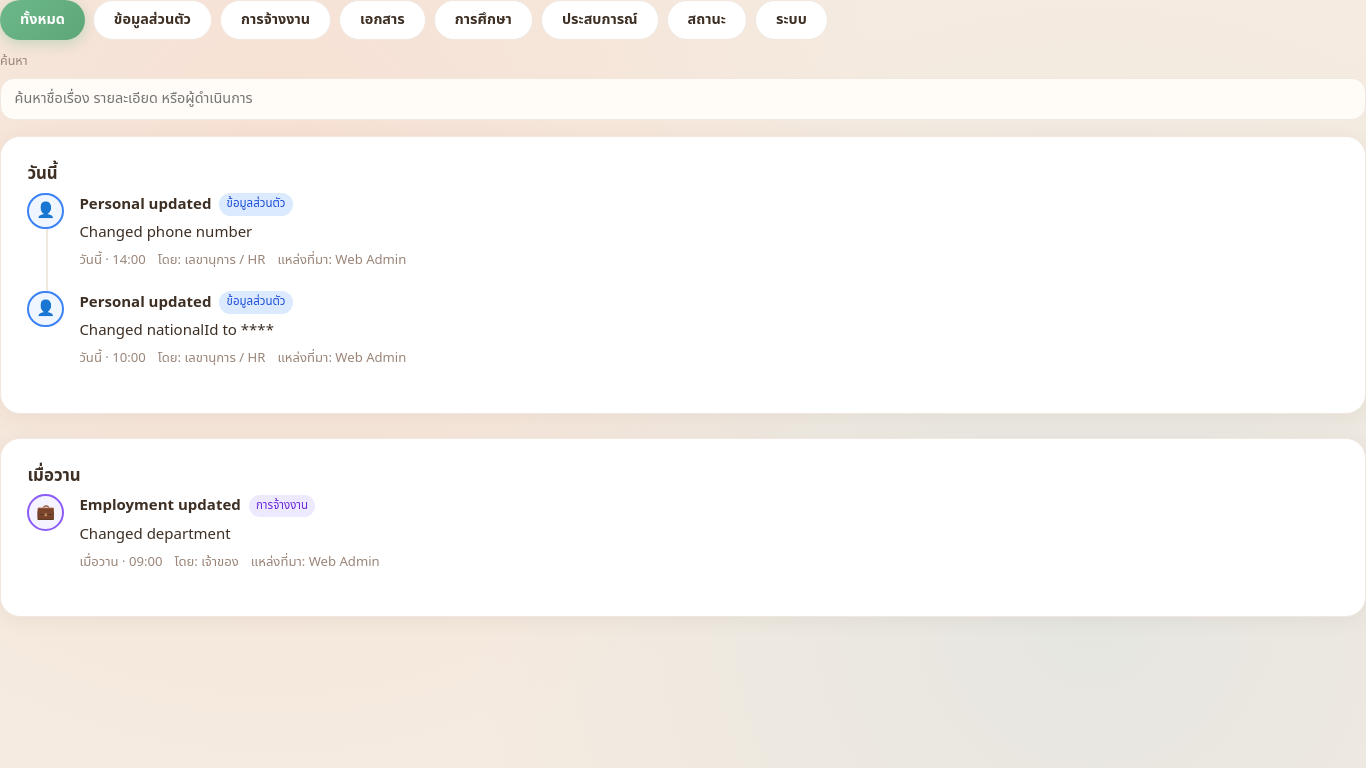
Scenario: EmployeeTimelineTab › searches by description
Expected: the list item with test id "timeline-item-ch-1" is shown, [27, 193, 406, 270]
Type "department" into the search field with test id "timeline-search".
click(683, 99); type("department")  # box [0, 78, 1365, 120]
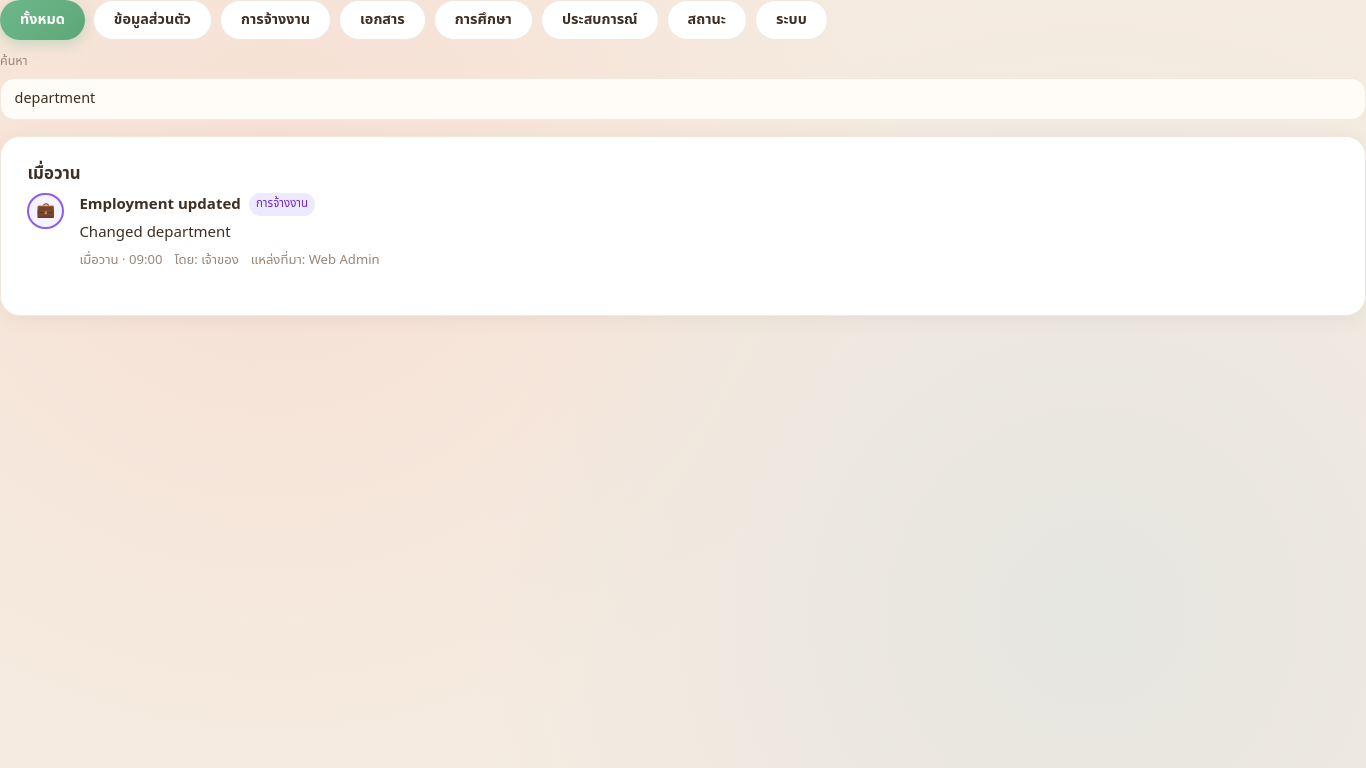
Expected: the text "Changed department" is shown, [79, 222, 231, 244]
Result: the text "Changed phone number" is gone
